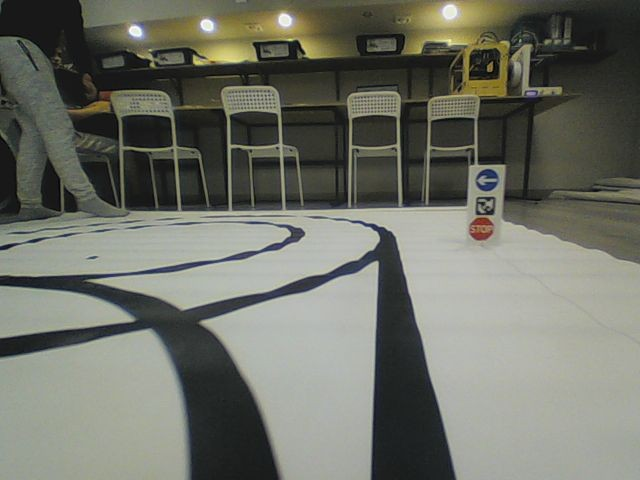Stop: (468, 216, 495, 242)
